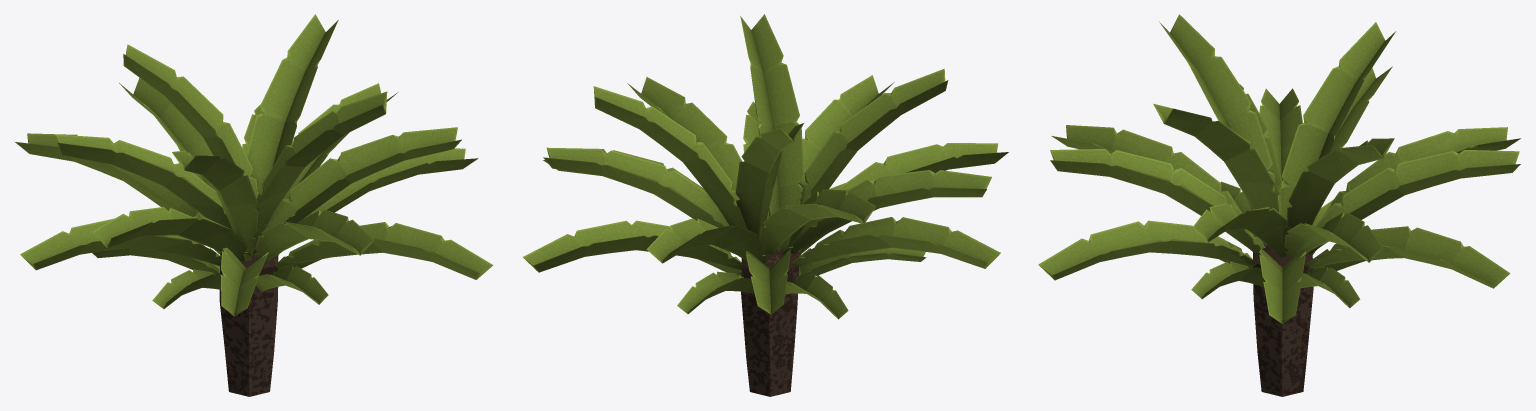
File: Plant-Olive-Palm-2-GB.fbx
3 views of the same model, side by side, from view 1: azimuth 30°, elevation 25°; view 2: azimuth 150°, elevation 25°; view 3: azimuth 270°, elevation 25° (orthographic). The views are drawn at different scales.
Visible parts, largest first — view 1: OlivePalmTree_mesh; view 2: OlivePalmTree_mesh; view 3: OlivePalmTree_mesh.
Part boxes in pixels (box(x1,y1,x2,y2)): OlivePalmTree_mesh: box(15, 14, 493, 396); OlivePalmTree_mesh: box(523, 14, 1008, 396); OlivePalmTree_mesh: box(1038, 14, 1520, 396).
Size of the model in its own units: 735 by 501 by 676.
1 material, 1 textured.
